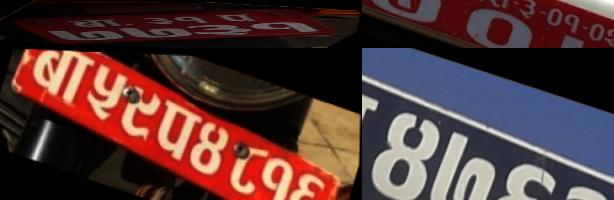0: (458, 0, 539, 48), (585, 17, 607, 44), (543, 1, 565, 27)
1: (251, 149, 300, 200), (240, 20, 336, 34), (558, 6, 584, 34), (162, 15, 222, 24)
2: (601, 21, 614, 48)
3: (535, 165, 614, 200), (174, 22, 262, 37), (513, 0, 541, 21), (128, 15, 180, 26)
4: (362, 98, 446, 200), (188, 112, 239, 178)
5: (82, 59, 134, 128)
6: (478, 144, 565, 200), (282, 161, 341, 200)
7: (419, 118, 508, 200), (362, 0, 450, 31), (29, 27, 135, 44), (101, 24, 207, 40), (548, 26, 614, 48)
8: (224, 135, 271, 200)
9: (118, 79, 166, 144)
ba: (25, 49, 99, 112), (56, 16, 135, 29)
pa: (148, 93, 206, 170), (204, 12, 268, 22)
